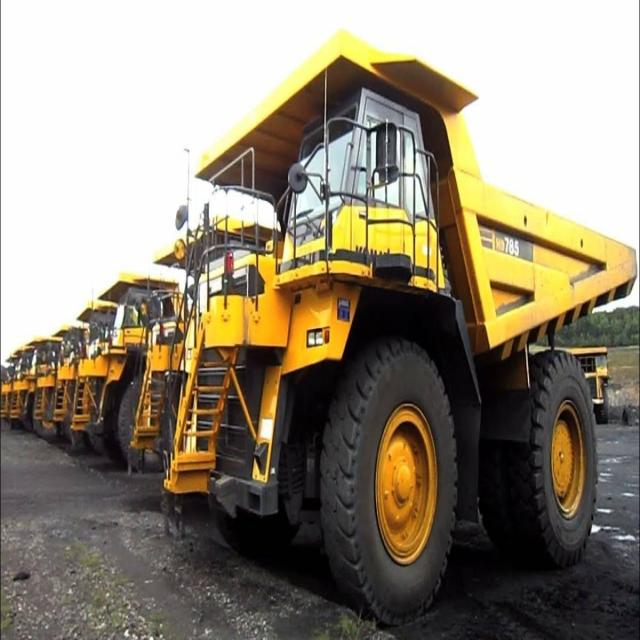dump_truck: (166, 28, 637, 628)
